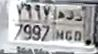7: (14, 3, 23, 42), (42, 4, 50, 43)
9: (32, 5, 42, 41), (24, 3, 32, 42)
D: (74, 12, 83, 43)
G: (65, 10, 73, 44)
H: (56, 7, 65, 43)
